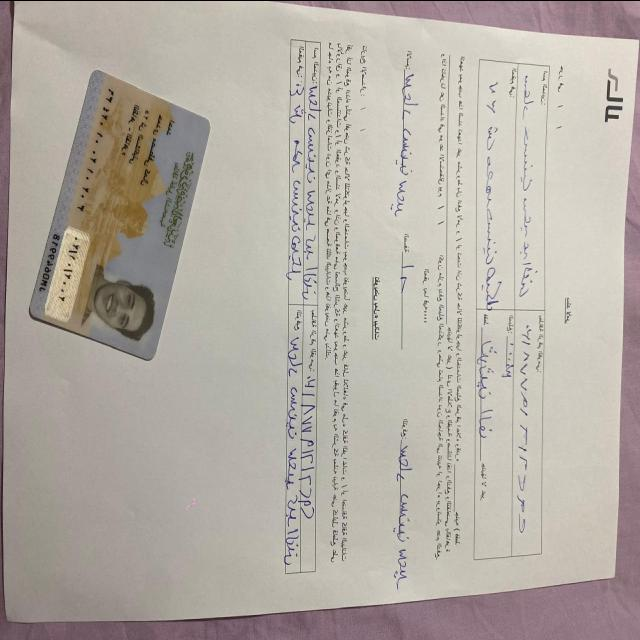id_card: (22, 60, 217, 367)
